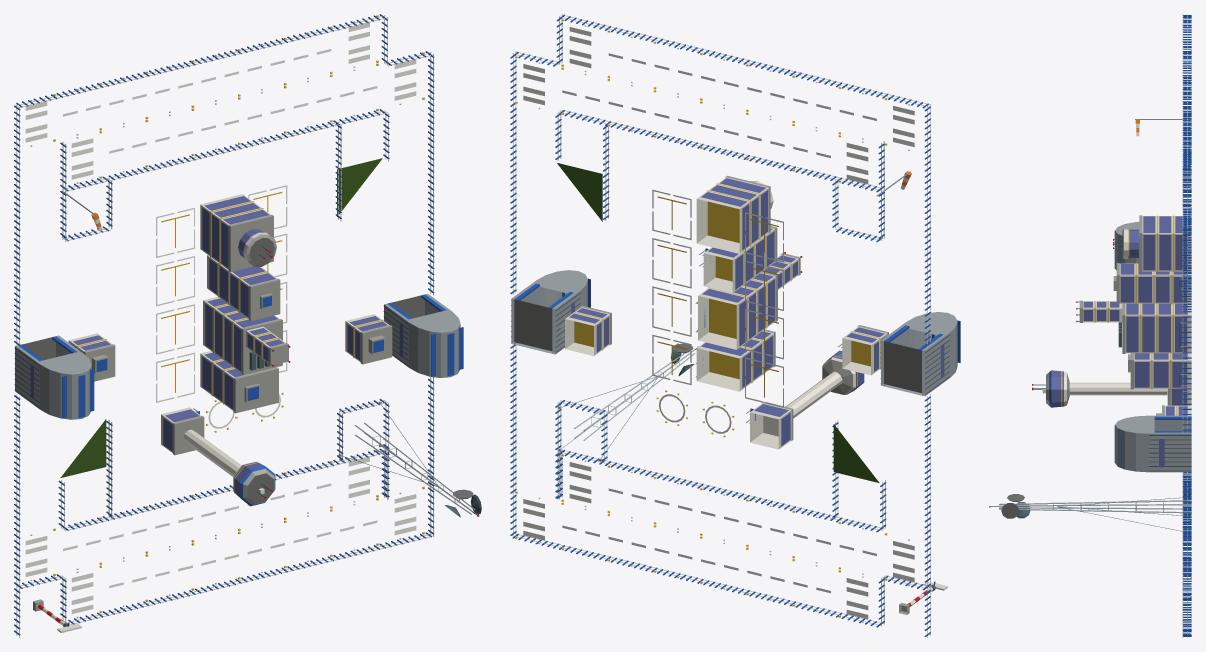
3 renders of one model, left to right at view 1: azimuth 30°, elevation 25°; view 2: azimuth 150°, elevation 25°; view 3: azimuth 270°, elevation 25°, orthographic. The views are drawn at different scales.
Parts seen in each view (by area): view 1: t0_5_g24, t8_4_g24, t4_7_g21, t4_5_g19, t3_3_g47, t4_4_g23, t4_6_g22, t7_4_g69, t7_2_g32, t1_5_g69, t1_3_g71, t7_7_g72 (+8 smaller); view 2: t0_5_g24, t4_5_g19, t8_4_g24, t4_7_g21, t3_3_g47, t4_4_g23, t4_6_g22, t7_4_g69, t1_5_g69, t7_2_g32, t1_3_g71, t7_7_g72 (+8 smaller); view 3: t4_5_g19, t8_4_g24, t4_7_g21, t4_6_g22, t3_3_g47, t4_4_g23, t7_2_g32, t0_5_g24, t8_9_g58, t7_10_g58, t8_1_g56, t8_2_g56 (+3 smaller).
Part boxes in pixels (x1,y1,x2,y2): t0_5_g24: (14,335,94,419); t8_4_g24: (383,293,463,377); t4_7_g21: (200,194,276,271); t4_5_g19: (203,296,290,375); t3_3_g47: (161,407,275,506); t4_4_g23: (200,351,278,413); t4_6_g22: (207,255,280,320); t7_4_g69: (345,314,392,364); t7_2_g32: (337,402,481,517); t1_5_g69: (68,333,115,381); t1_3_g71: (60,419,106,477); t7_7_g72: (337,158,382,216); t0_5_g24: (880,312,960,396); t4_5_g19: (695,252,802,349); t8_4_g24: (511,270,590,354); t4_7_g21: (696,175,773,253); t3_3_g47: (746,350,864,449); t4_4_g23: (695,329,775,391); t4_6_g22: (699,226,777,293); t7_4_g69: (560,305,611,355); t1_5_g69: (837,325,888,375); t7_2_g32: (558,343,698,462); t1_3_g71: (833,424,879,482); t7_7_g72: (557,163,602,221); t4_5_g19: (1076,300,1191,353); t8_4_g24: (1114,415,1191,472); t4_7_g21: (1113,215,1191,272); t4_6_g22: (1113,263,1191,304); t3_3_g47: (1032,370,1191,407); t4_4_g23: (1128,353,1191,389); t7_2_g32: (989,485,1191,533); t0_5_g24: (1114,221,1139,270); t8_9_g58: (1182,208,1191,268); t7_10_g58: (1182,148,1191,207); t8_1_g56: (1182,539,1191,596); t8_2_g56: (1182,498,1191,555).
Bounding box in the file's own units: 144 × 176 × 71.4.
